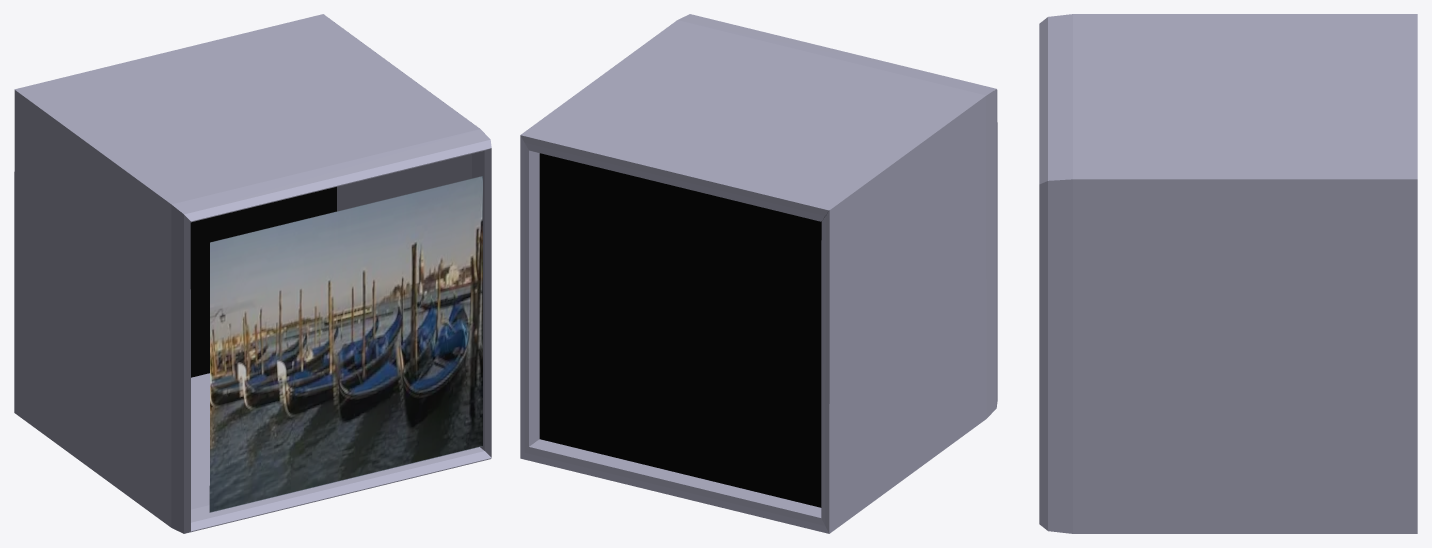
File: sh-contrib-venice-frame.glb
The picture shows the model from 3 angles, left to right: view 1: azimuth 30°, elevation 25°; view 2: azimuth 150°, elevation 25°; view 3: azimuth 270°, elevation 25°; orthographic projection. The views are drawn at different scales.
Parts seen in each view (by area): view 1: MetalFrame_Cylinder_Aluminium.013, Photo_Cube_Material_Venice.jpg, Frame_Black_Material.017; view 2: MetalFrame_Cylinder_Aluminium.013, Frame_Black_Material.017; view 3: MetalFrame_Cylinder_Aluminium.013.
Boxes of the visible parts, box(x1,y1,x2,y2) form: MetalFrame_Cylinder_Aluminium.013: box(14, 14, 491, 533); Photo_Cube_Material_Venice.jpg: box(209, 176, 482, 512); Frame_Black_Material.017: box(190, 187, 336, 377); MetalFrame_Cylinder_Aluminium.013: box(520, 14, 997, 533); Frame_Black_Material.017: box(539, 153, 829, 507); MetalFrame_Cylinder_Aluminium.013: box(1039, 14, 1417, 533).
Bounding box in the file's own units: 1 × 1 × 1.
Materials: 3 (1 with a texture image).
